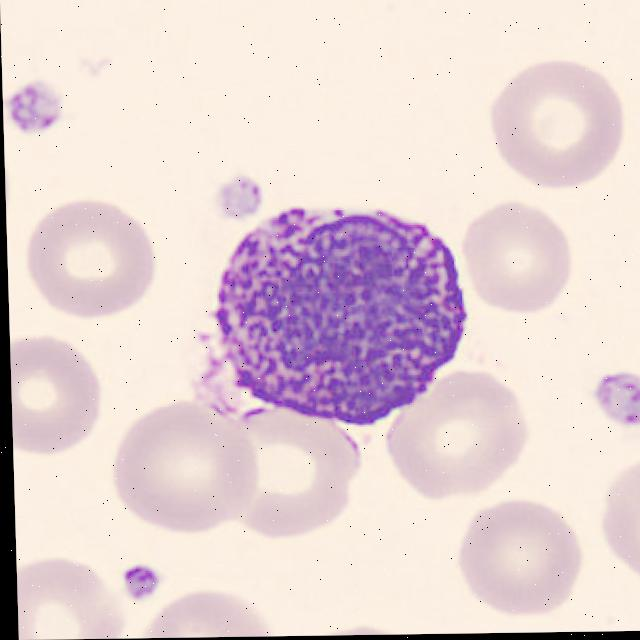basophil: (212, 202, 463, 422)
platelets: (575, 358, 640, 433), (2, 75, 80, 132), (113, 542, 163, 606), (212, 170, 267, 224)
rbc: (466, 51, 640, 198), (96, 398, 270, 534), (206, 396, 360, 541), (18, 192, 171, 327), (385, 371, 535, 500), (453, 483, 596, 608), (456, 196, 596, 313), (10, 331, 112, 460), (16, 539, 136, 639), (593, 451, 640, 579), (149, 592, 272, 638), (317, 619, 390, 636)
